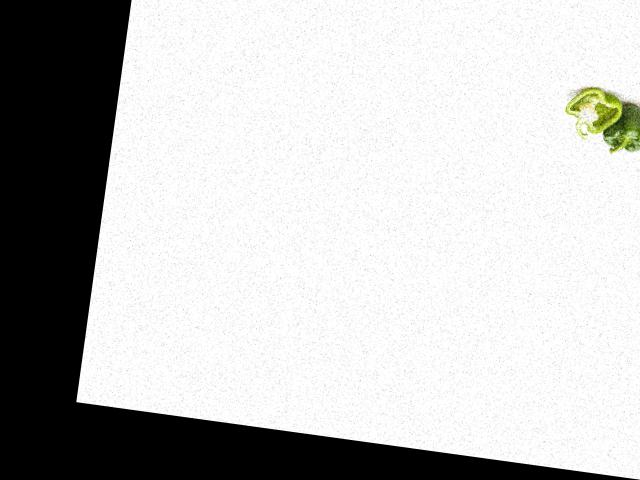bell_pepper: (558, 85, 626, 146)
